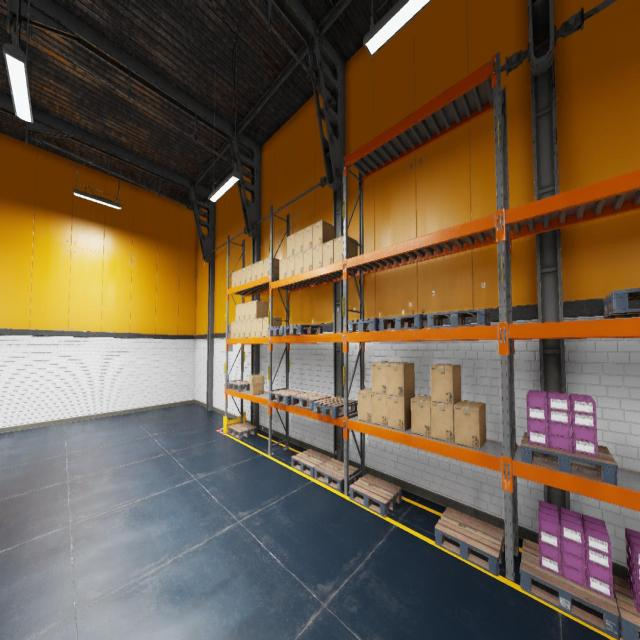box: (454, 400, 486, 449), (431, 400, 461, 443), (431, 364, 461, 404), (387, 394, 415, 431), (387, 362, 414, 397), (411, 395, 431, 437), (371, 362, 395, 394), (334, 235, 357, 263), (312, 220, 334, 247), (372, 393, 387, 427), (357, 388, 372, 422), (262, 316, 282, 336), (263, 256, 280, 276), (248, 374, 264, 395), (251, 300, 268, 319), (323, 239, 333, 266), (313, 244, 322, 269), (304, 224, 312, 250), (295, 229, 303, 254), (304, 248, 312, 272), (295, 252, 303, 274), (287, 233, 294, 257), (287, 255, 294, 277), (279, 258, 286, 279), (256, 318, 262, 337), (250, 319, 256, 337), (257, 260, 263, 278), (251, 262, 257, 280), (245, 320, 250, 338), (240, 302, 245, 320), (246, 264, 251, 282), (240, 320, 245, 337), (235, 321, 240, 338), (235, 304, 240, 321), (241, 267, 246, 284), (236, 269, 241, 286), (246, 302, 250, 320), (231, 322, 235, 338), (232, 271, 236, 287)
pallets: (520, 539, 620, 639), (521, 432, 617, 485), (434, 507, 504, 576), (349, 474, 402, 517), (612, 575, 640, 639), (314, 458, 358, 492), (427, 308, 490, 328), (292, 449, 332, 478), (602, 288, 640, 318), (313, 396, 357, 418), (379, 314, 427, 330), (291, 392, 331, 411), (269, 388, 306, 404), (228, 423, 257, 439), (348, 318, 379, 332), (284, 324, 322, 335), (228, 381, 250, 391), (268, 326, 290, 336)
